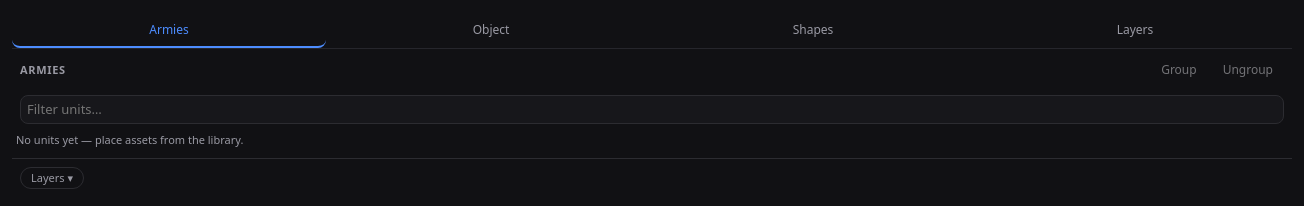
Test case: RightPanel › switches to the Layers tab (promoted from Armies disclosure)
Click the tab with test id "tab-layers".
click(1135, 30)  # box [978,12,1292,48]
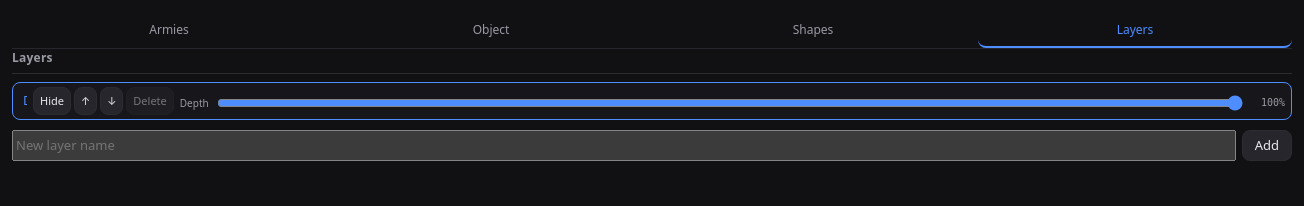
Result: the button with test id "layer-add" showing "Add" is shown at [1242,130,1292,161]
